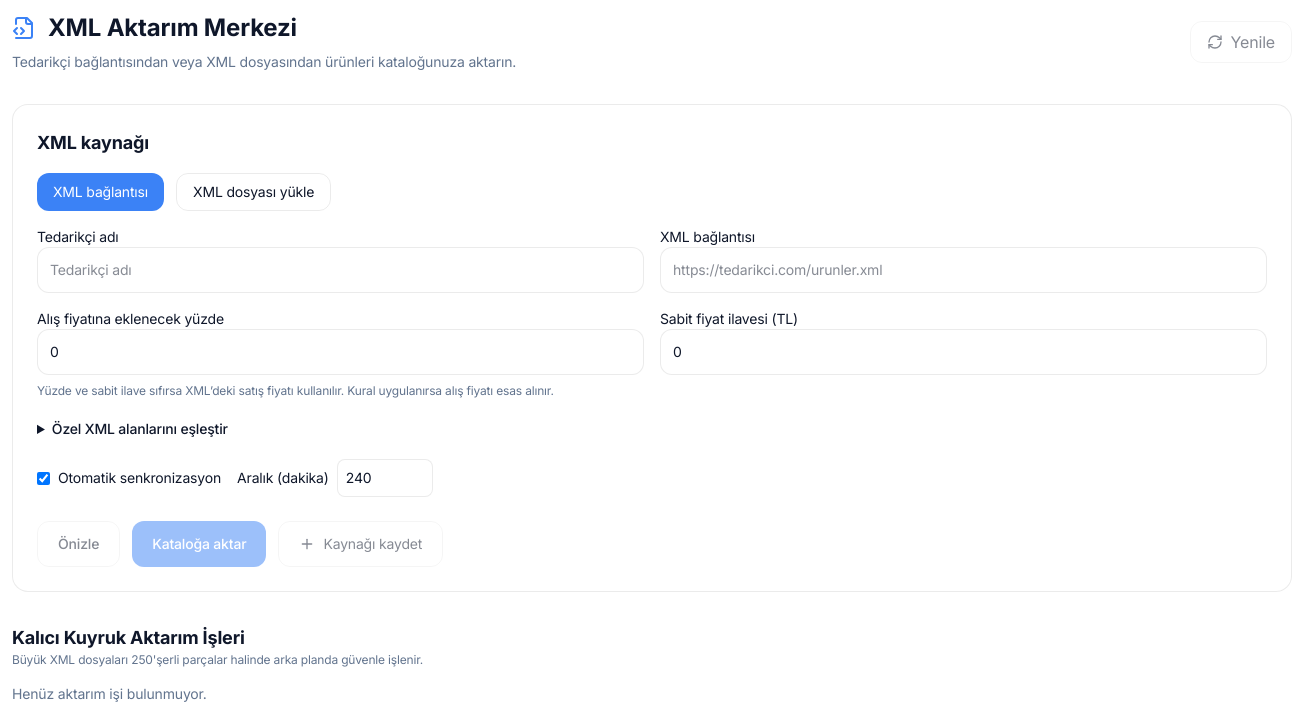
Test case: XML import workspace › shows the backend error message when a source cannot be read
The width and height of the screenshot is (1304, 714).
In the field labelled "XML bağlantısı": (964, 270) [660,247,1267,293], type "https://example.com/missing.xml"
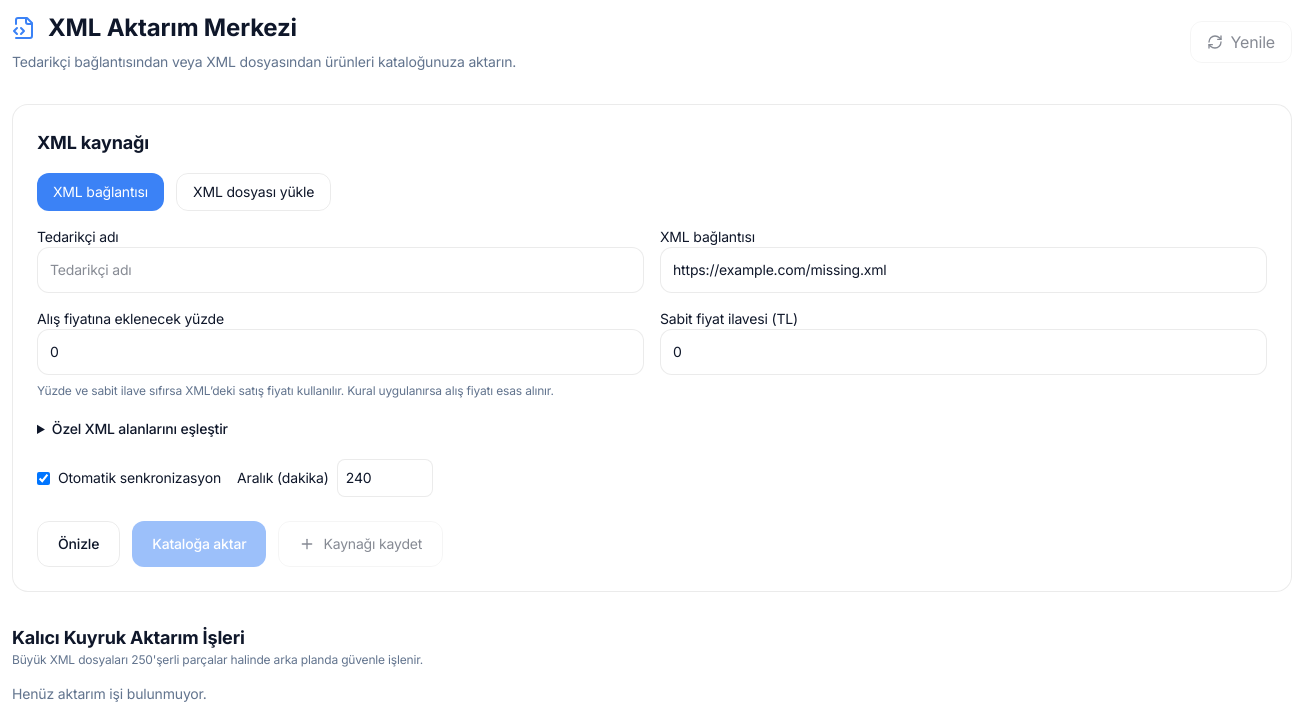
Click the button "Önizle": (79, 544) [37,521,120,567]
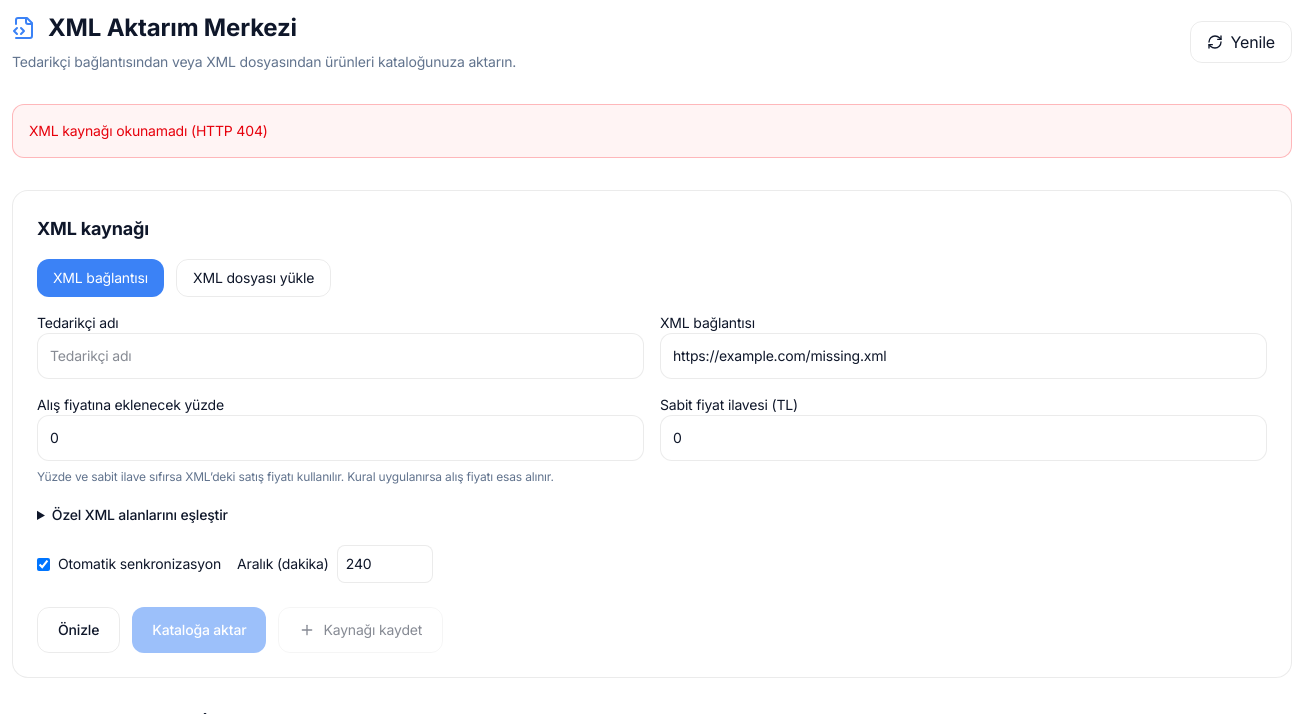
Expected: the button "Kataloğa aktar" is disabled, [132,607,266,653]
Expected: the message "XML kaynağı okunamadı (HTTP 404)" is shown, [12,104,1292,158]
Expected: the message reads "XML kaynağı okunamadı (HTTP 404)", [29,122,268,139]
